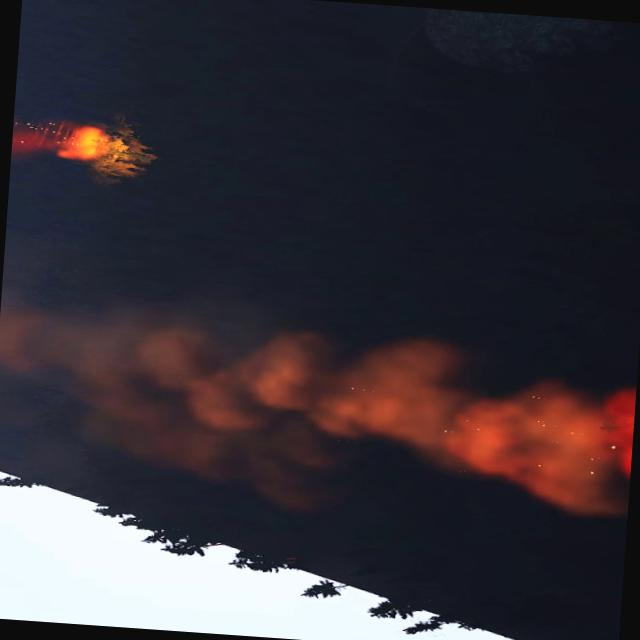fire: (58, 124, 113, 162)
smoke: (0, 275, 636, 527), (9, 106, 56, 180)
